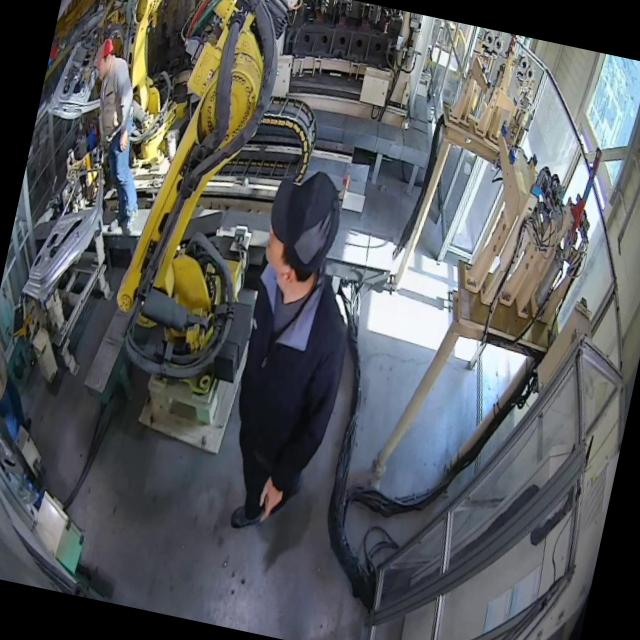Person: (205, 162, 382, 544), (61, 35, 172, 238), (0, 310, 51, 447)
